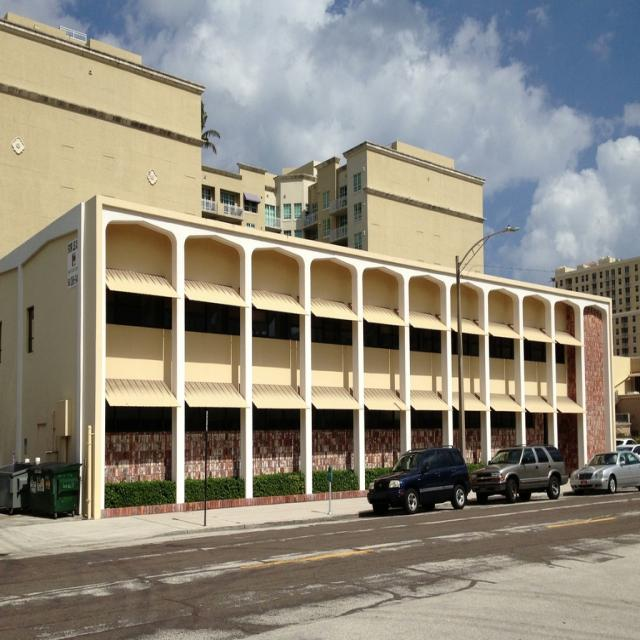car: (368, 449, 478, 517), (473, 443, 568, 501), (569, 448, 639, 493)
